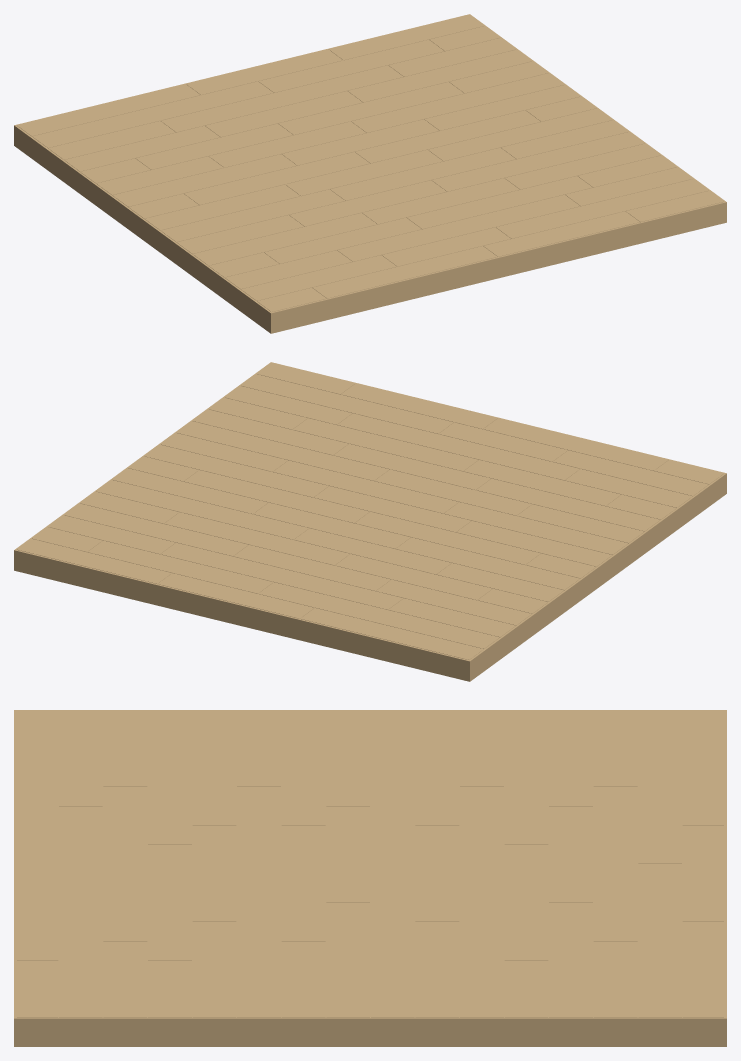
Rendered from floor.fbx.
The picture shows the model from 3 angles, top to bottom: view 1: azimuth 30°, elevation 25°; view 2: azimuth 150°, elevation 25°; view 3: azimuth 270°, elevation 25°; orthographic projection. The views are drawn at different scales.
Parts seen in each view (by area): view 1: geo_floor; view 2: geo_floor; view 3: geo_floor.
Boxes of the visible parts, <box> form: geo_floor: <box>14,14,726,333</box>; geo_floor: <box>14,362,726,681</box>; geo_floor: <box>14,710,726,1046</box>.
Bounding box in the file's own units: 1004 × 43.52 × 981.
